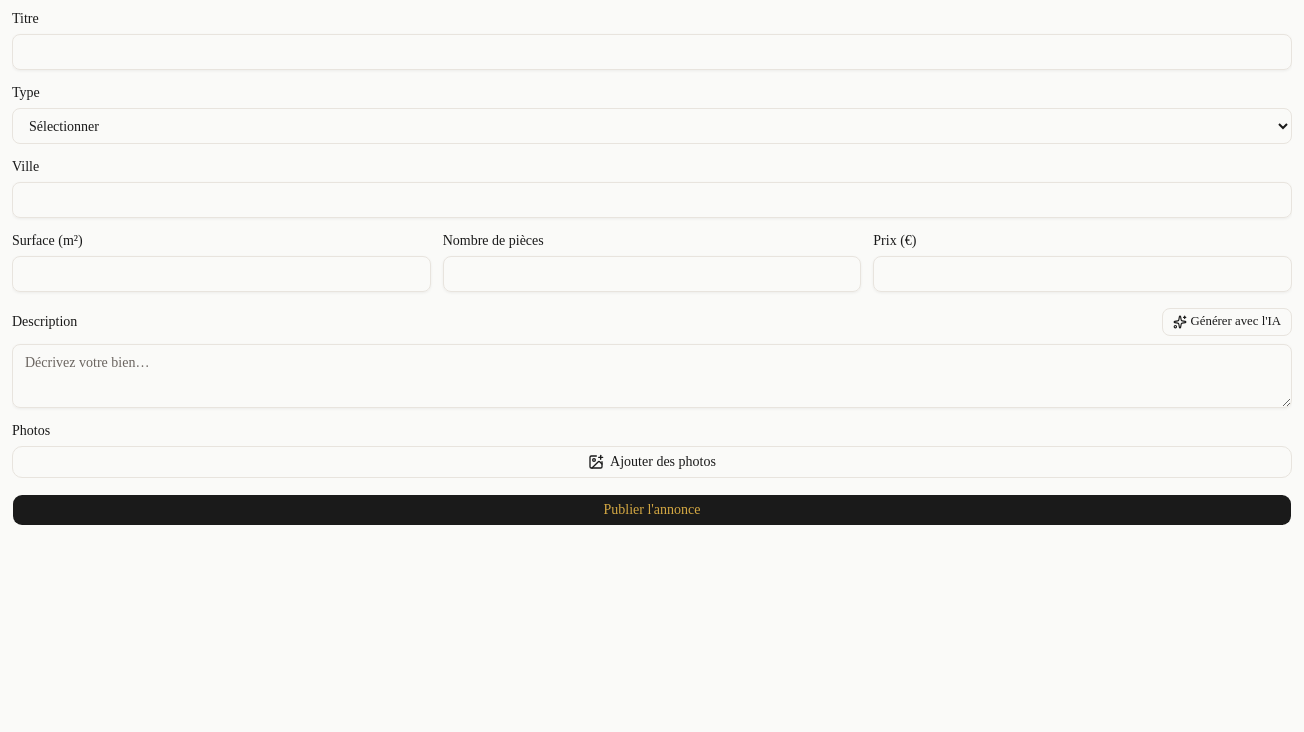
<ListingForm> › injects the generated description into the textarea
Select "Appartement" in the dropdown labelled "Type". click: {"x": 652, "y": 126}
box: [12,108,1292,144]
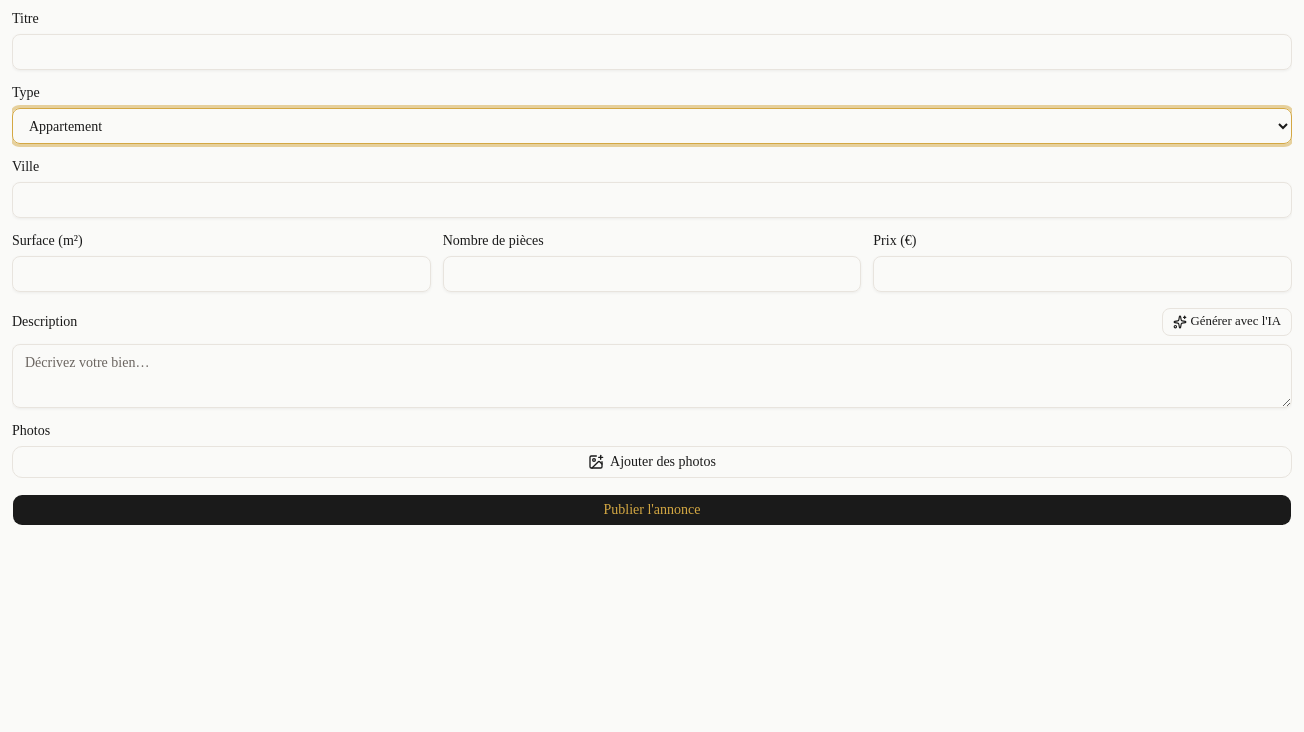
Type "Nantes" into the field labelled "Ville". click: {"x": 652, "y": 200}
box: [12,182,1292,218]
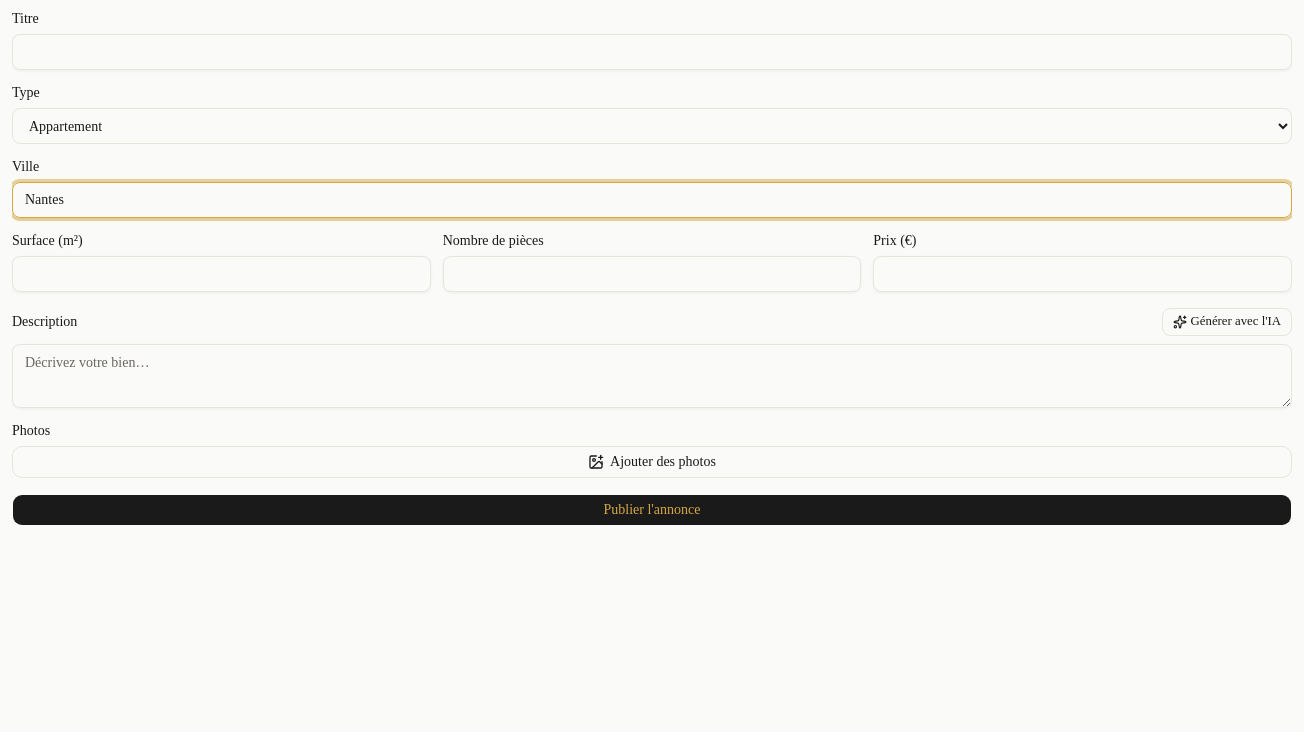
Type "65" into the number field labelled "Surface (m²)". click: {"x": 221, "y": 274}
box: [12,256,431,292]
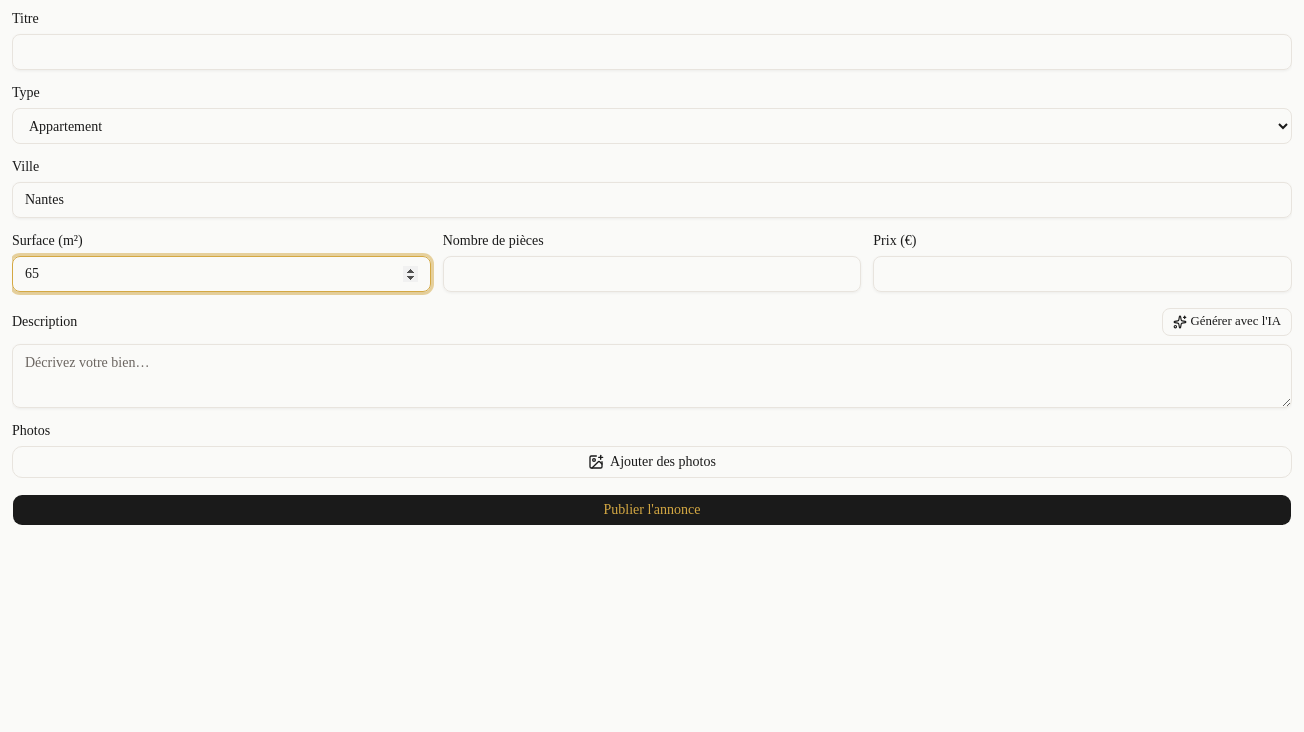
Type "3" into the number field labelled "Nombre de pièces". click: {"x": 652, "y": 274}
box: [443,256,861,292]
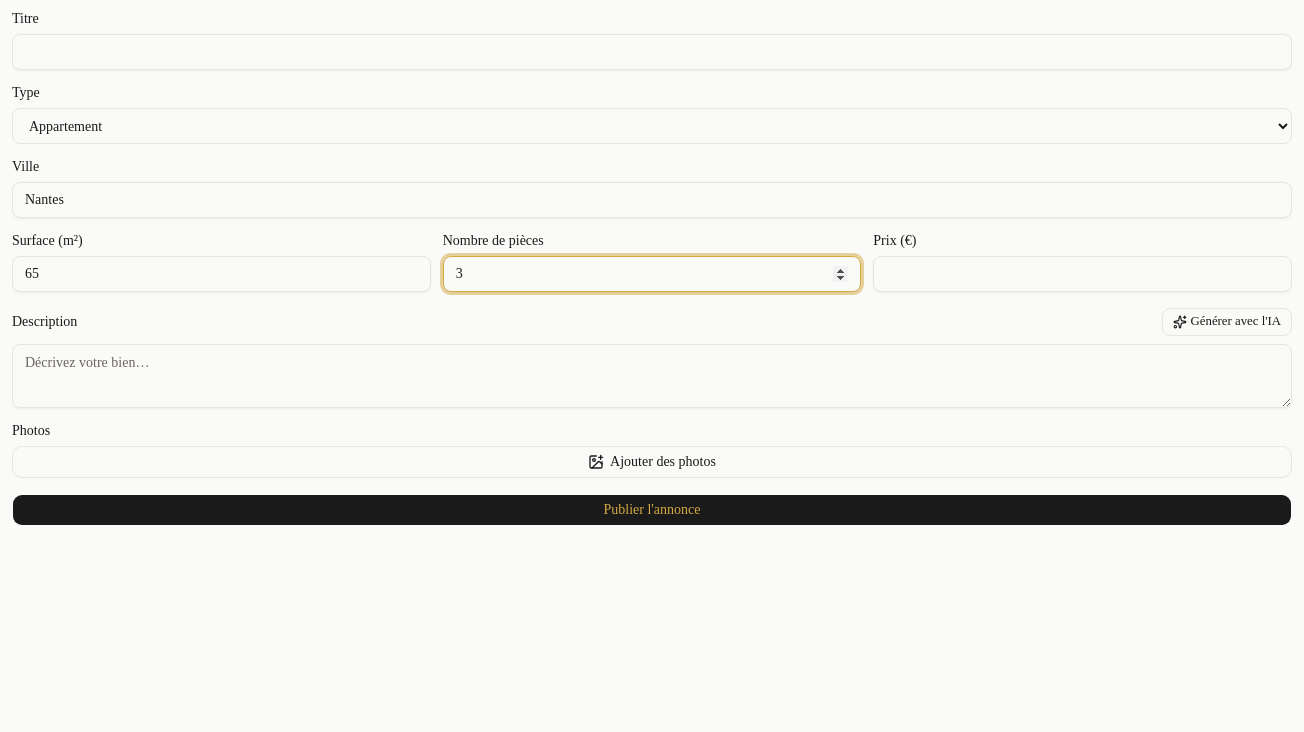
Type "250000" into the number field labelled "Prix (€)". click: {"x": 1083, "y": 274}
box: [873,256,1292,292]
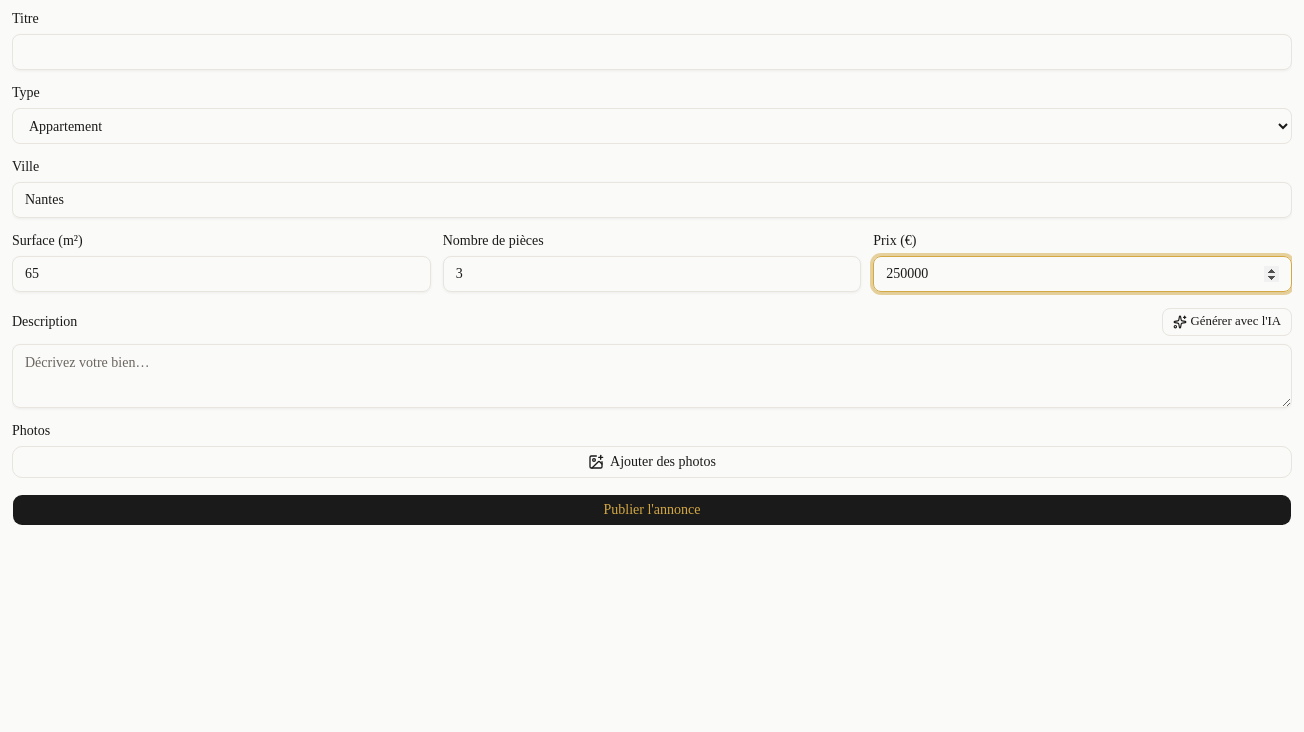
Click the button "Générer avec l'IA". click: {"x": 1227, "y": 322}
box: [1162,308,1292,336]
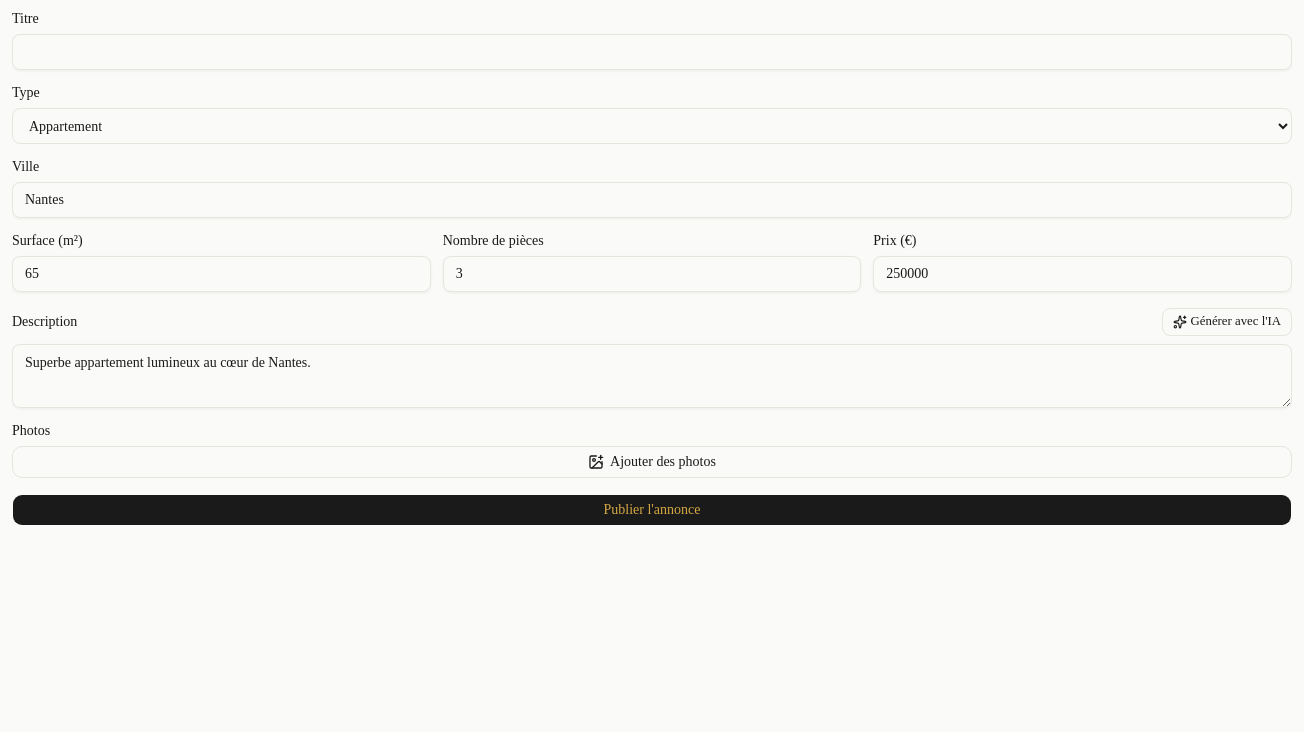
Result: the text box labelled "Description" holds "Superbe appartement lumineux au cœur de Nantes." at [12,344,1292,408]
